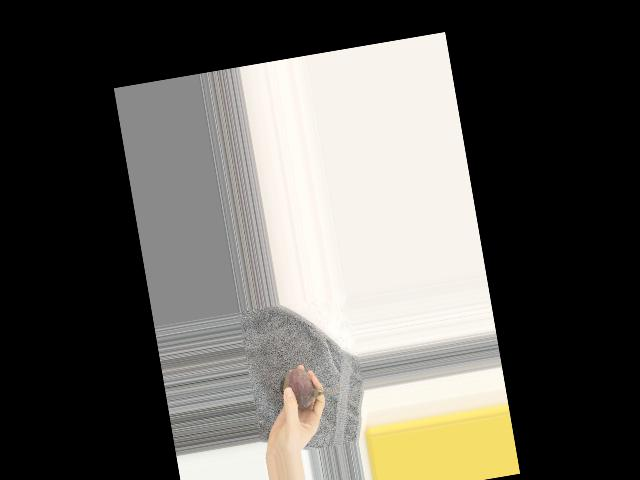beet: (276, 361, 343, 412)
